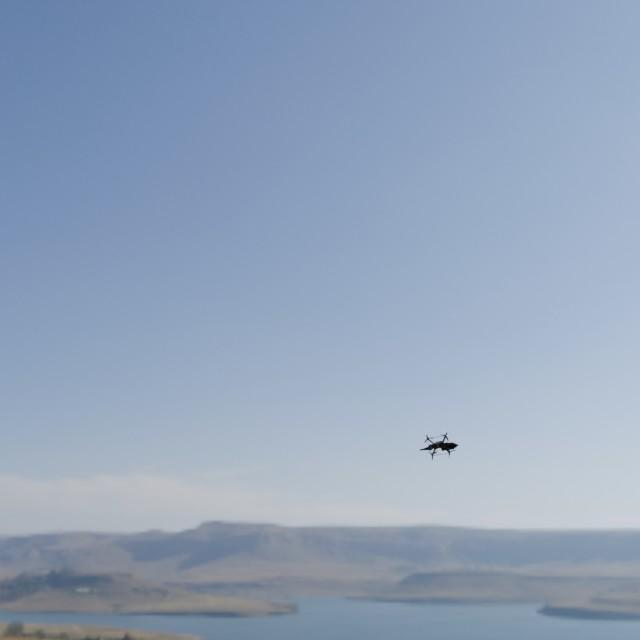drone: (419, 432, 458, 460)
